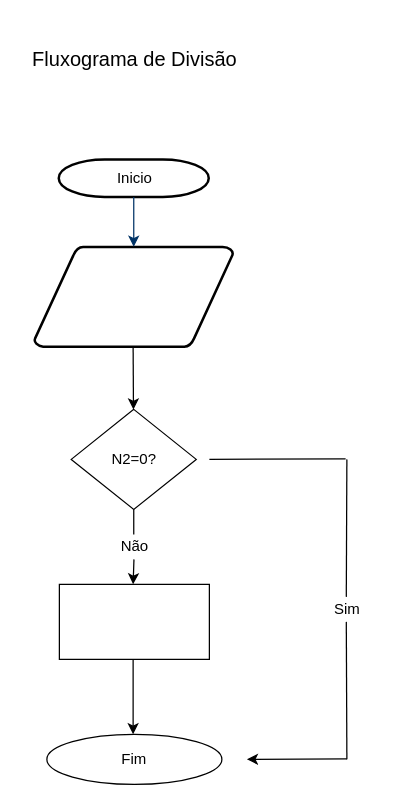
Image size: 393x806. Some labels were removed from this diagram. The centre of each missing label's shape, as x and y in pixels:
"M = N1 / N2" goes at point 133,621.
"N1.N2" goes at point 133,296.
